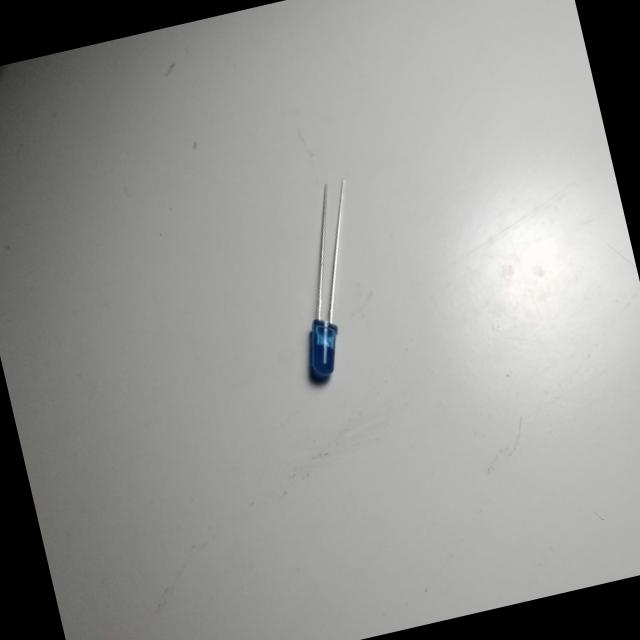blue_led: (260, 164, 398, 412)
